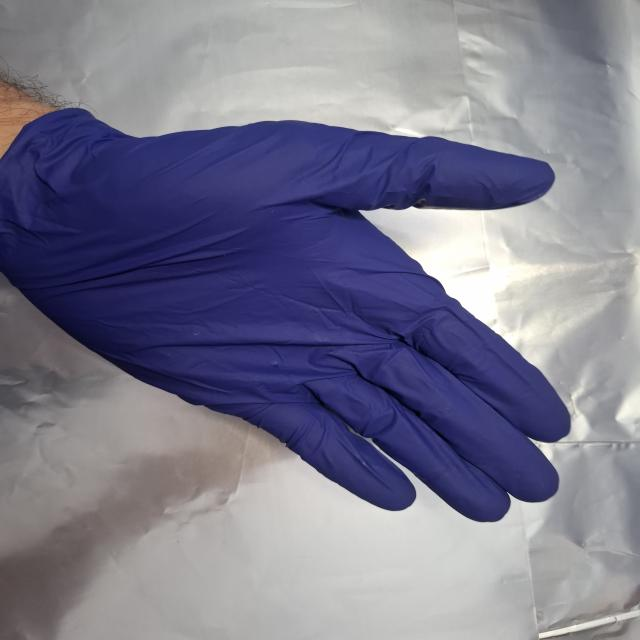glove_on: (0, 102, 578, 527)
